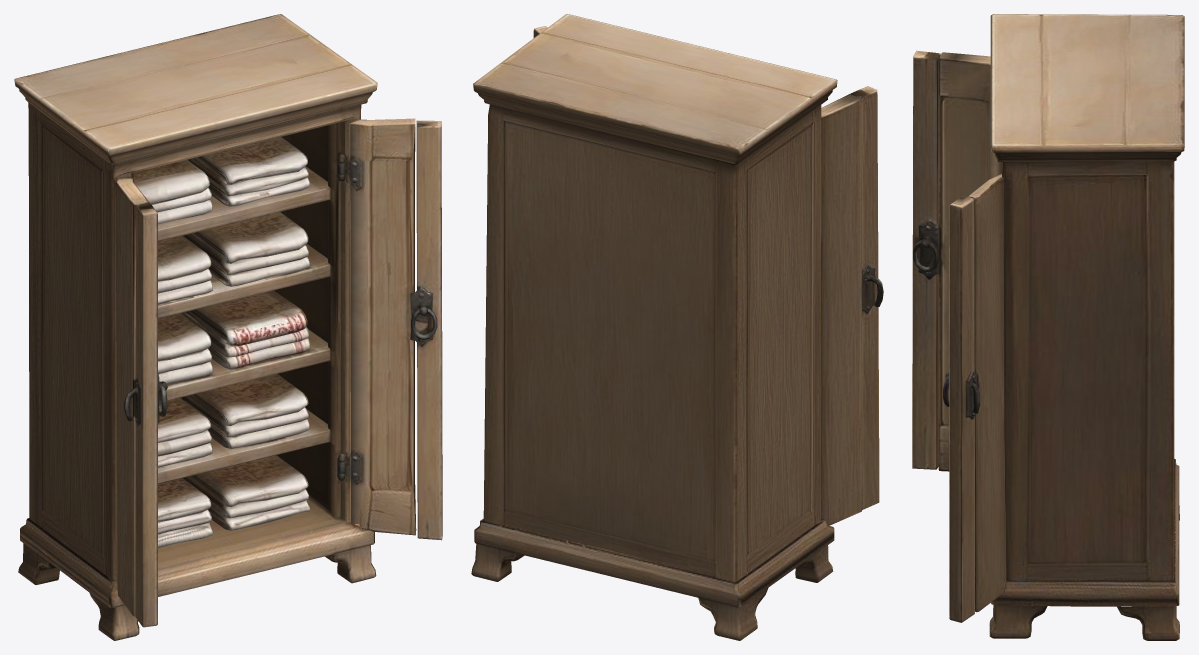
File: act1-a19-4-linen-press.glb
3 views of the same model, side by side, from view 1: azimuth 30°, elevation 25°; view 2: azimuth 150°, elevation 25°; view 3: azimuth 270°, elevation 25° (orthographic).
Visible parts, largest first — view 1: act1-a19-4-linen-press; view 2: act1-a19-4-linen-press; view 3: act1-a19-4-linen-press.
Part boxes in pixels (left/top/right/bottom): act1-a19-4-linen-press: left=14, top=14, right=442, bottom=640; act1-a19-4-linen-press: left=471, top=14, right=883, bottom=640; act1-a19-4-linen-press: left=912, top=14, right=1184, bottom=640.
Size of the model in its own units: 1.35 by 1.9 by 0.9495.
1 material, 1 textured.
